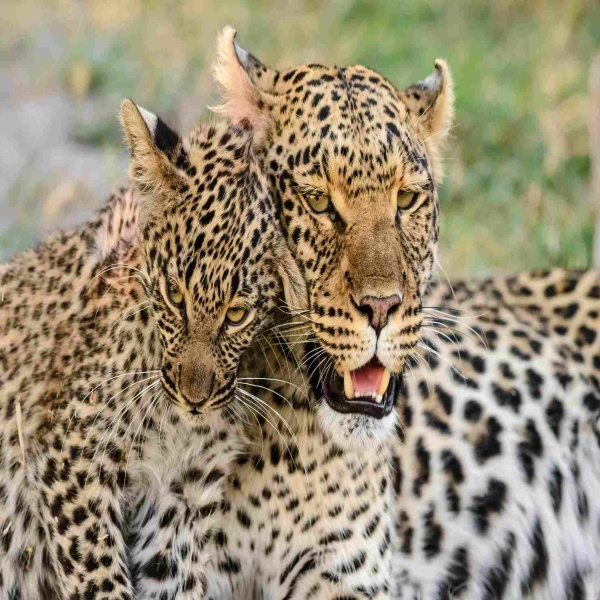Leopard: (215, 22, 600, 599), (2, 97, 287, 600)
